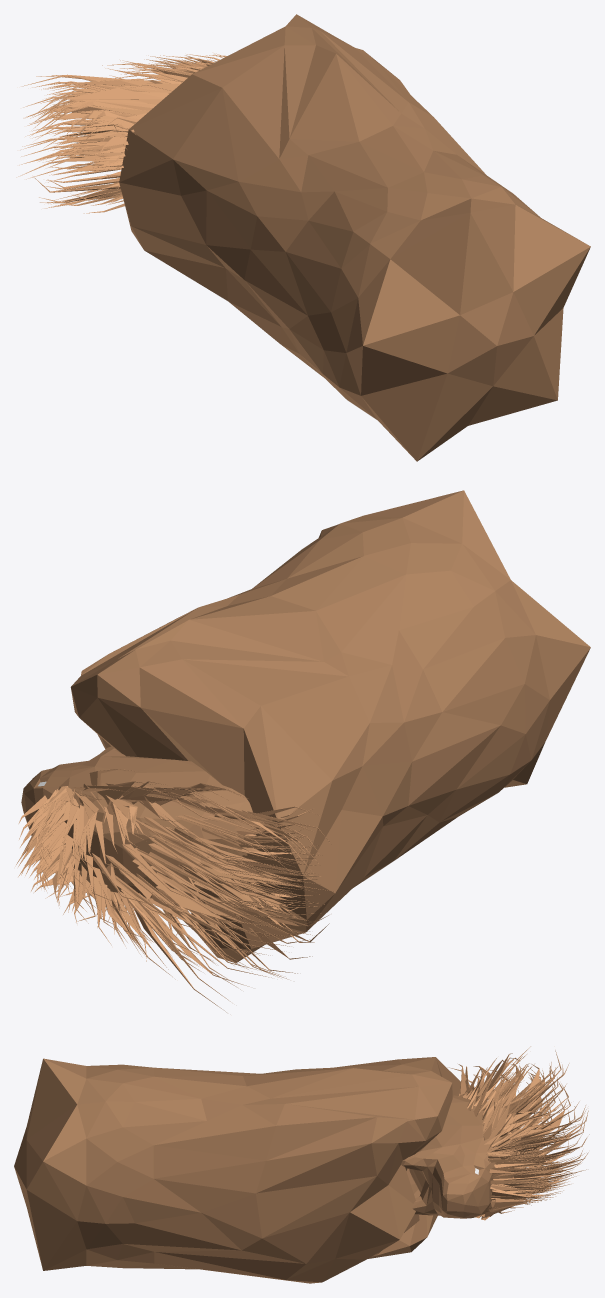
Rendered from Porcupine Totem.fbx.
3 views of the same model, one above another, from view 1: azimuth 30°, elevation 25°; view 2: azimuth 150°, elevation 25°; view 3: azimuth 270°, elevation 25° (orthographic). The views are drawn at different scales.
Visible parts, largest first — view 1: Icosphere.008; view 2: Icosphere.008; view 3: Icosphere.008.
Boxes of the visible parts, x1,y1,x2,y2 form: Icosphere.008: (16, 14, 590, 461); Icosphere.008: (15, 490, 590, 1012); Icosphere.008: (14, 1046, 589, 1283).
Bounding box in the file's own units: 1122 × 554 × 454.
2 materials, 1 textured.
